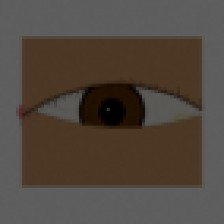pinguecula_lesion: (159, 98, 209, 138)
